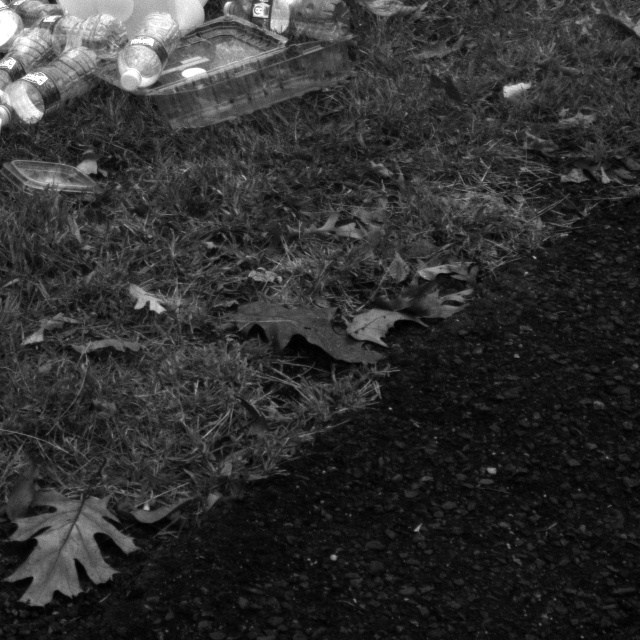bottle: (0, 44, 100, 133), (0, 24, 62, 119), (116, 10, 181, 92), (27, 8, 124, 59)
container: (132, 12, 347, 135), (2, 157, 94, 196)
